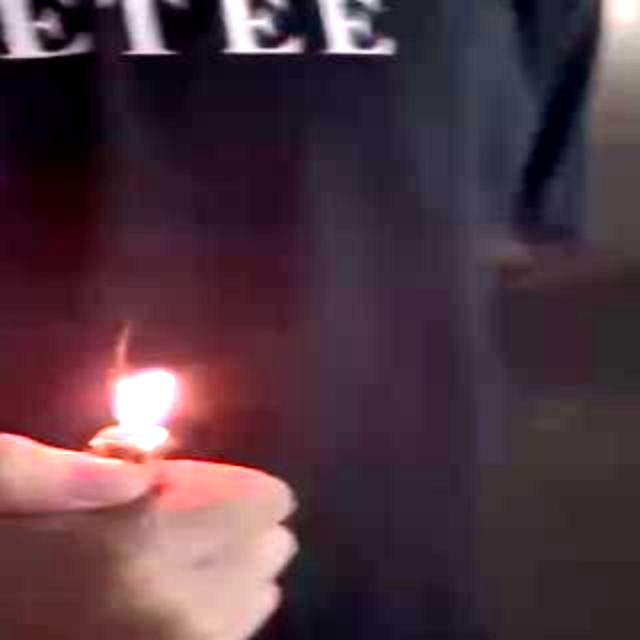fire: (88, 322, 175, 461)
